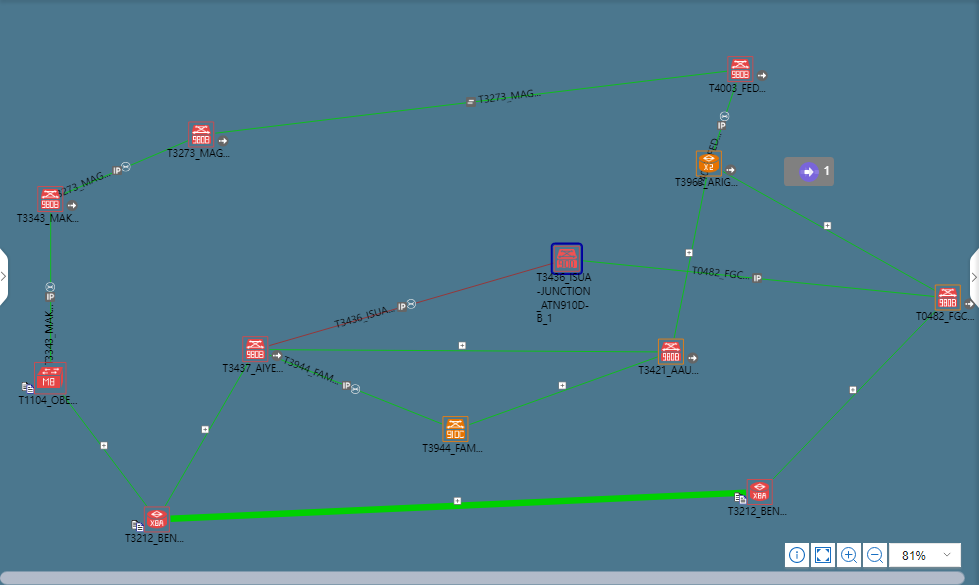ATN_Orange: (444, 418, 467, 439)
ATN_Red: (658, 338, 687, 367), (933, 283, 962, 312), (554, 247, 583, 276), (187, 124, 216, 147), (242, 338, 271, 360), (40, 185, 61, 214), (731, 57, 754, 80)
Link_Green: (217, 69, 720, 132), (774, 308, 935, 475), (731, 173, 938, 294), (174, 485, 748, 527), (594, 259, 938, 300), (272, 351, 441, 429), (162, 363, 252, 508), (468, 357, 649, 429), (58, 393, 147, 508), (64, 136, 191, 193), (676, 179, 711, 312), (673, 198, 704, 325), (266, 345, 656, 352), (713, 81, 742, 144), (672, 259, 690, 337)
Link_Red: (272, 259, 552, 349)
Router_Red: (34, 363, 69, 390), (144, 510, 173, 531), (750, 479, 772, 501)
Switch_Red: (34, 363, 69, 390)
